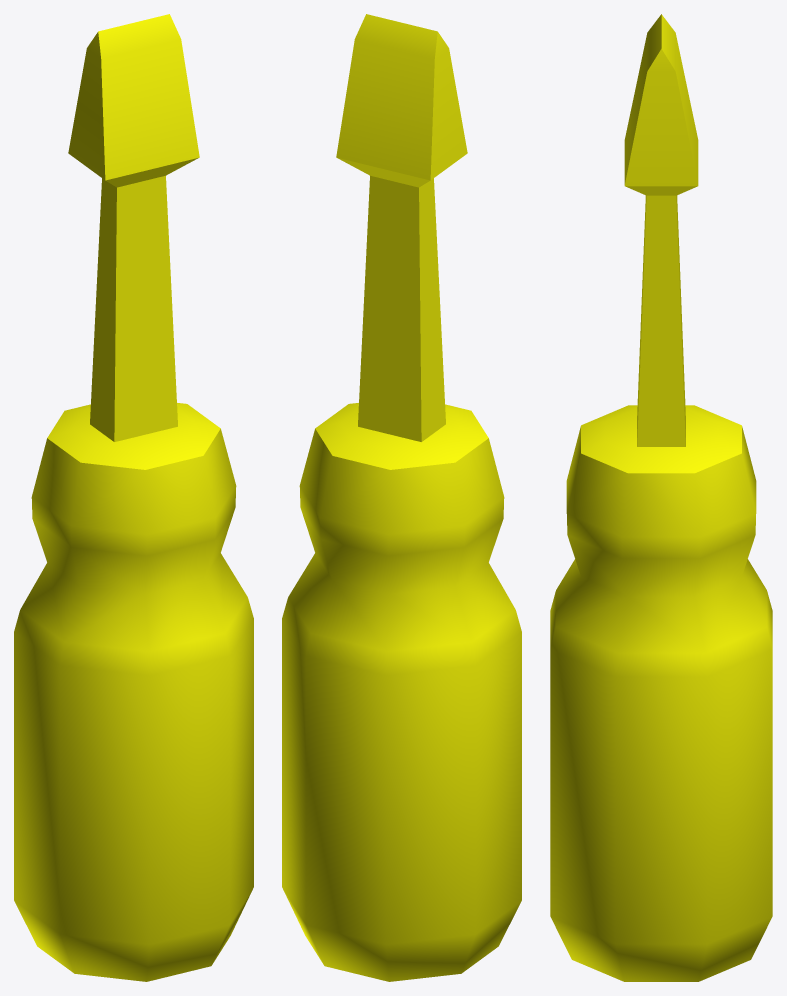
The model's file is kaykit-screwdriver-a-short.glb.
3 views of the same model, side by side, from view 1: azimuth 30°, elevation 25°; view 2: azimuth 150°, elevation 25°; view 3: azimuth 270°, elevation 25° (orthographic).
Parts seen in each view (by area): view 1: screwdriver_A_short; view 2: screwdriver_A_short; view 3: screwdriver_A_short.
Boxes of the visible parts, x1,y1,x2,y2 form: screwdriver_A_short: (14,14,253,981); screwdriver_A_short: (282,14,521,981); screwdriver_A_short: (550,14,772,981).
Bounding box in the file's own units: 0.1513 × 0.7034 × 0.1513.
